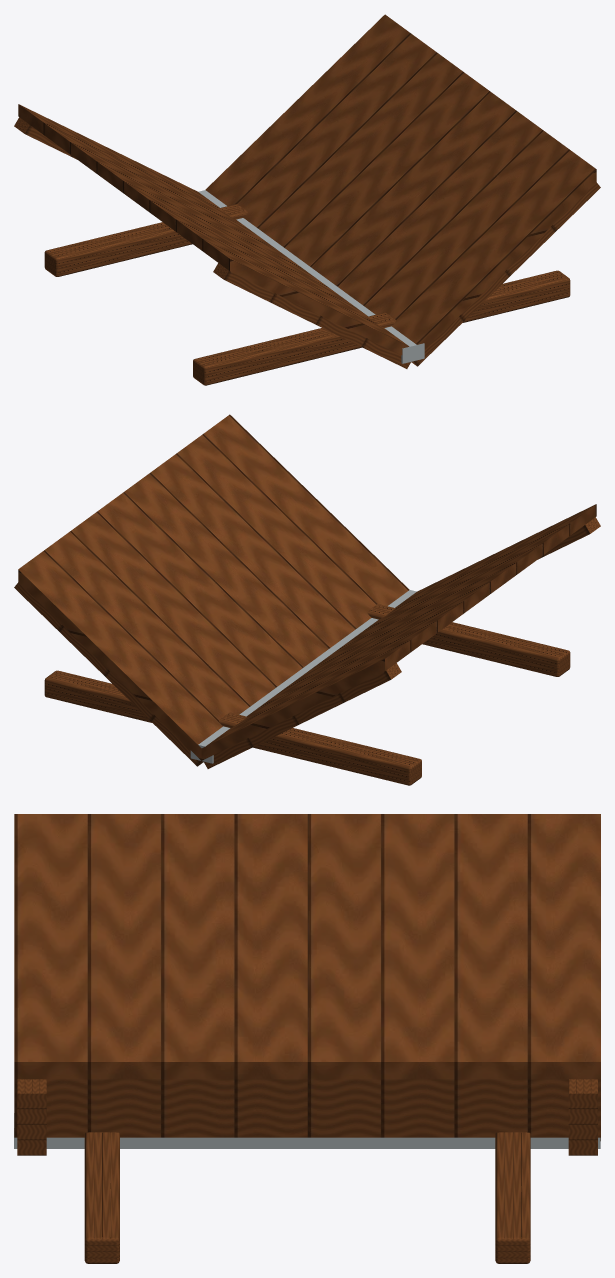
File: modular-survival-base-builder-roof-butterfly-7f8103f3__24180.glb
3 renders of one model, top to bottom at view 1: azimuth 30°, elevation 25°; view 2: azimuth 150°, elevation 25°; view 3: azimuth 270°, elevation 25°, orthographic. The views are drawn at different scales.
Parts seen in each view (by area): view 1: roof-butterfly; view 2: roof-butterfly; view 3: roof-butterfly.
Boxes of the visible parts, bbox=[...] form: roof-butterfly: bbox=[14, 14, 600, 385]; roof-butterfly: bbox=[14, 414, 600, 785]; roof-butterfly: bbox=[14, 814, 600, 1263].
Size of the model in its own units: 2.06 by 0.806 by 2.
2 materials, 1 textured.
